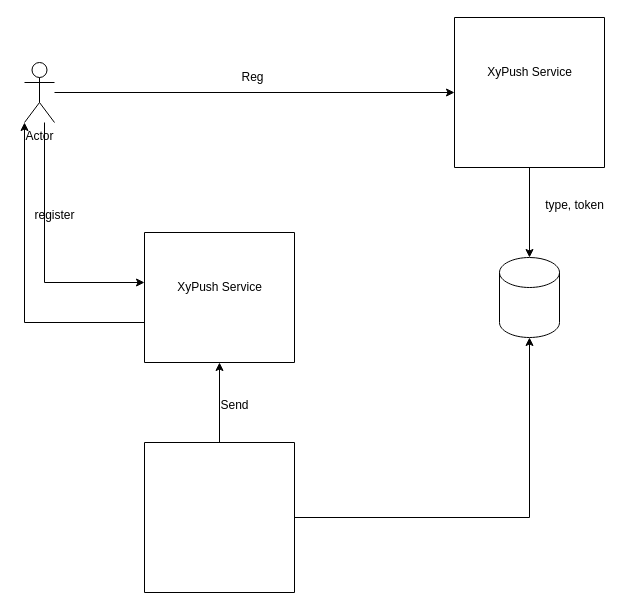
This 632x610 diagram has some shape labels left out. The centre of each missing label's shape, as x and y in pixels:
DB: pixel 529 297
Live Service: pixel 219 517
